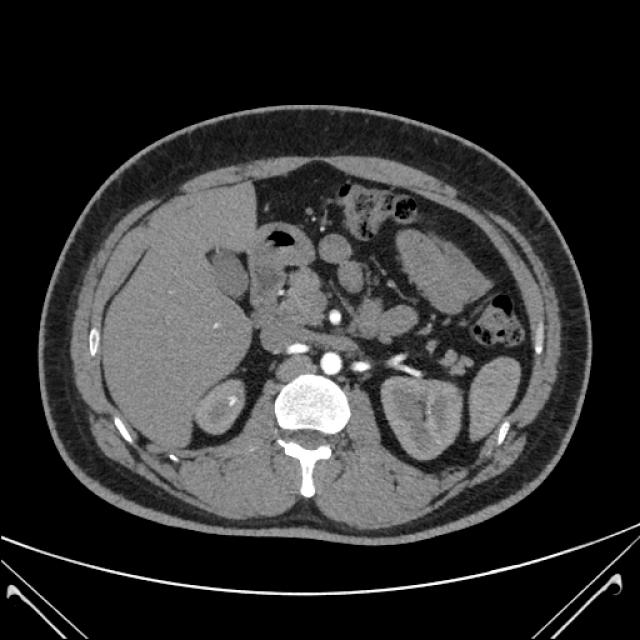Kidney: (21, 76, 622, 606)
